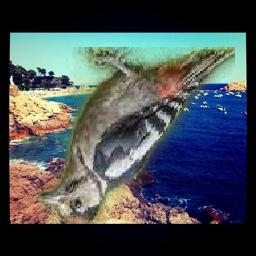Woodpecker: (39, 48, 236, 225)
